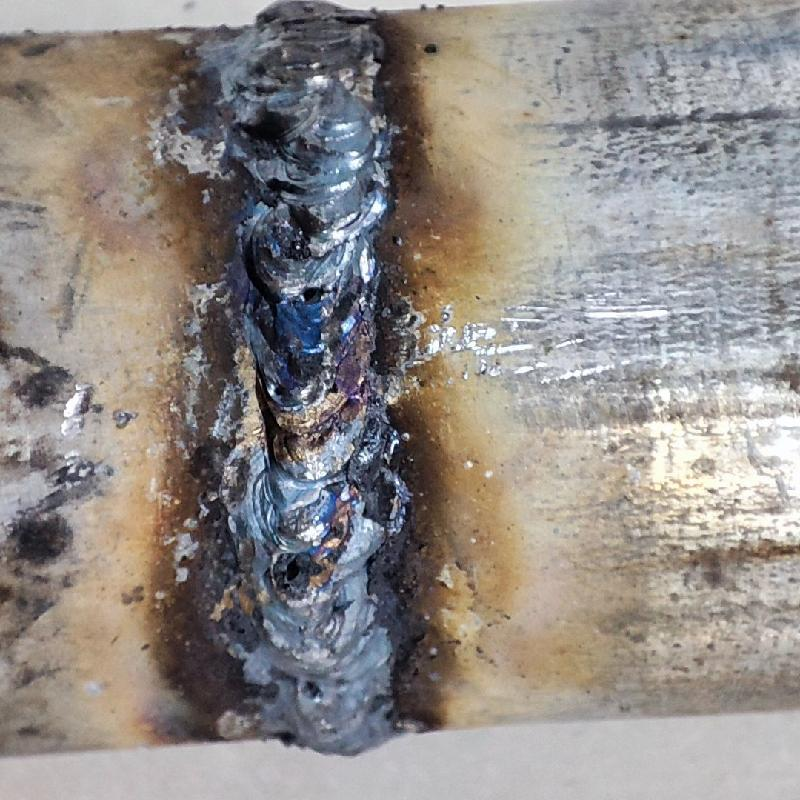Surface_pores: (274, 546, 319, 597), (295, 280, 331, 313), (263, 380, 300, 410)
